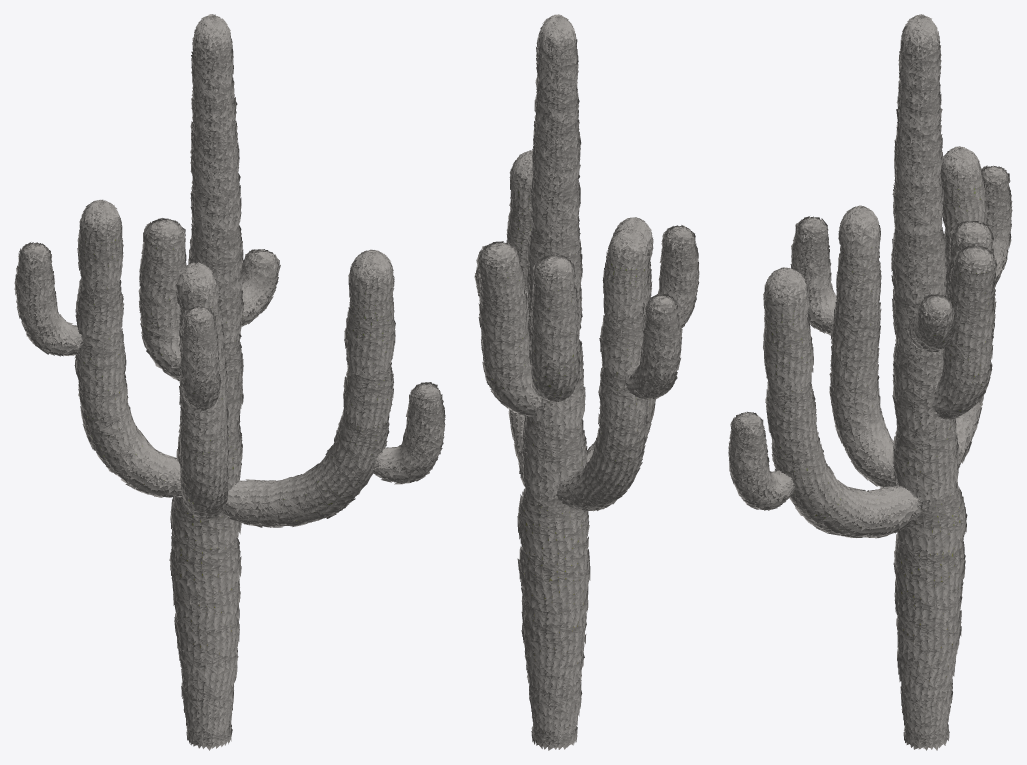
3 views of the same model, side by side, from view 1: azimuth 30°, elevation 25°; view 2: azimuth 150°, elevation 25°; view 3: azimuth 270°, elevation 25° (orthographic).
Parts seen in each view (by area): view 1: Carnegiea_gigantea_HD; view 2: Carnegiea_gigantea_HD; view 3: Carnegiea_gigantea_HD.
Boxes of the visible parts, box(x1,y1,x2,y2) form: Carnegiea_gigantea_HD: box(14, 14, 445, 750); Carnegiea_gigantea_HD: box(474, 14, 699, 750); Carnegiea_gigantea_HD: box(728, 14, 1012, 750).
Size of the model in its own units: 3.34 by 7.67 by 2.72.
Materials: 3 (3 with a texture image).
